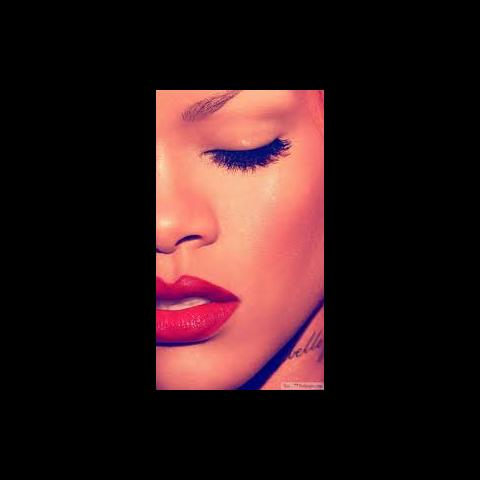closed: (168, 90, 318, 195)
